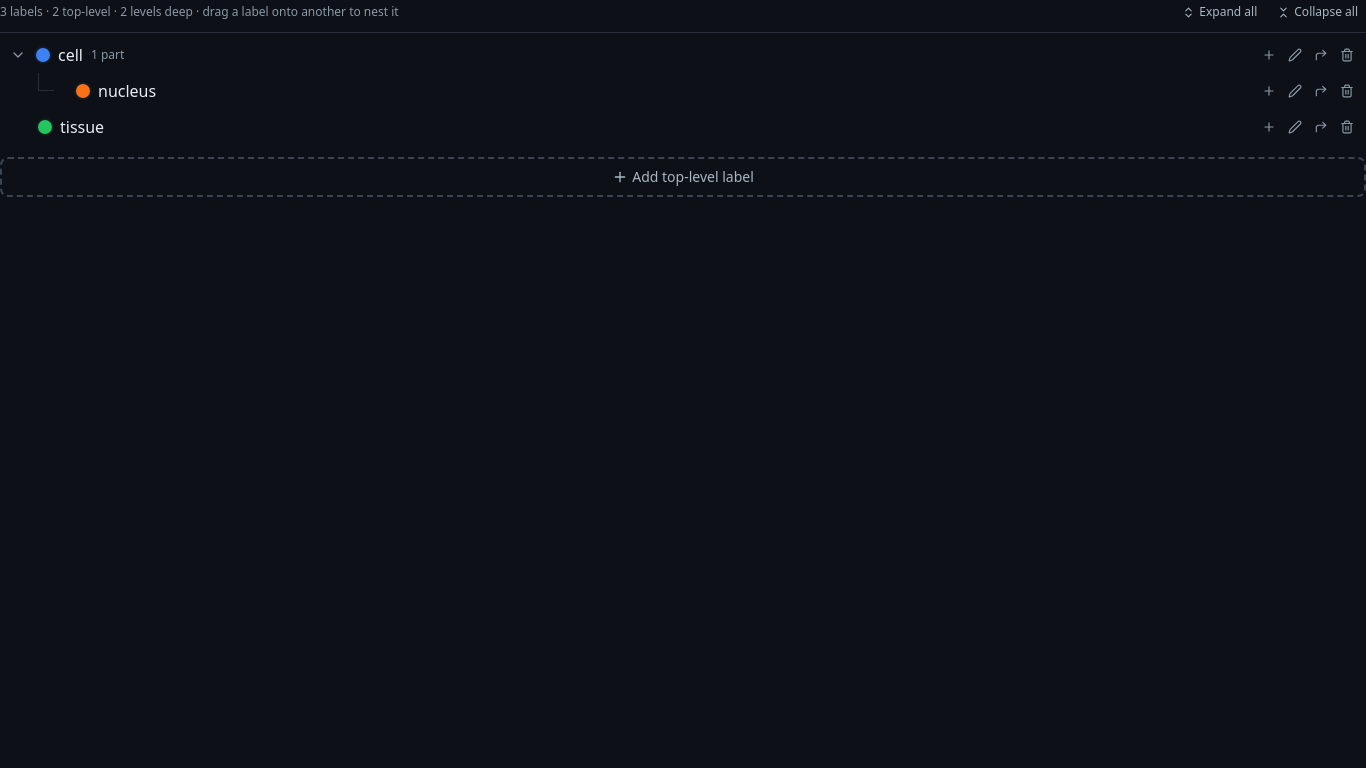
Test case: EditableLabels — moving a label › disables the move when the chosen destination is where the label already is
Step 1. Click the button titled "Move \"nucleus\" — make it a part of something else" → click(1321, 91), box [1310, 80, 1332, 102]
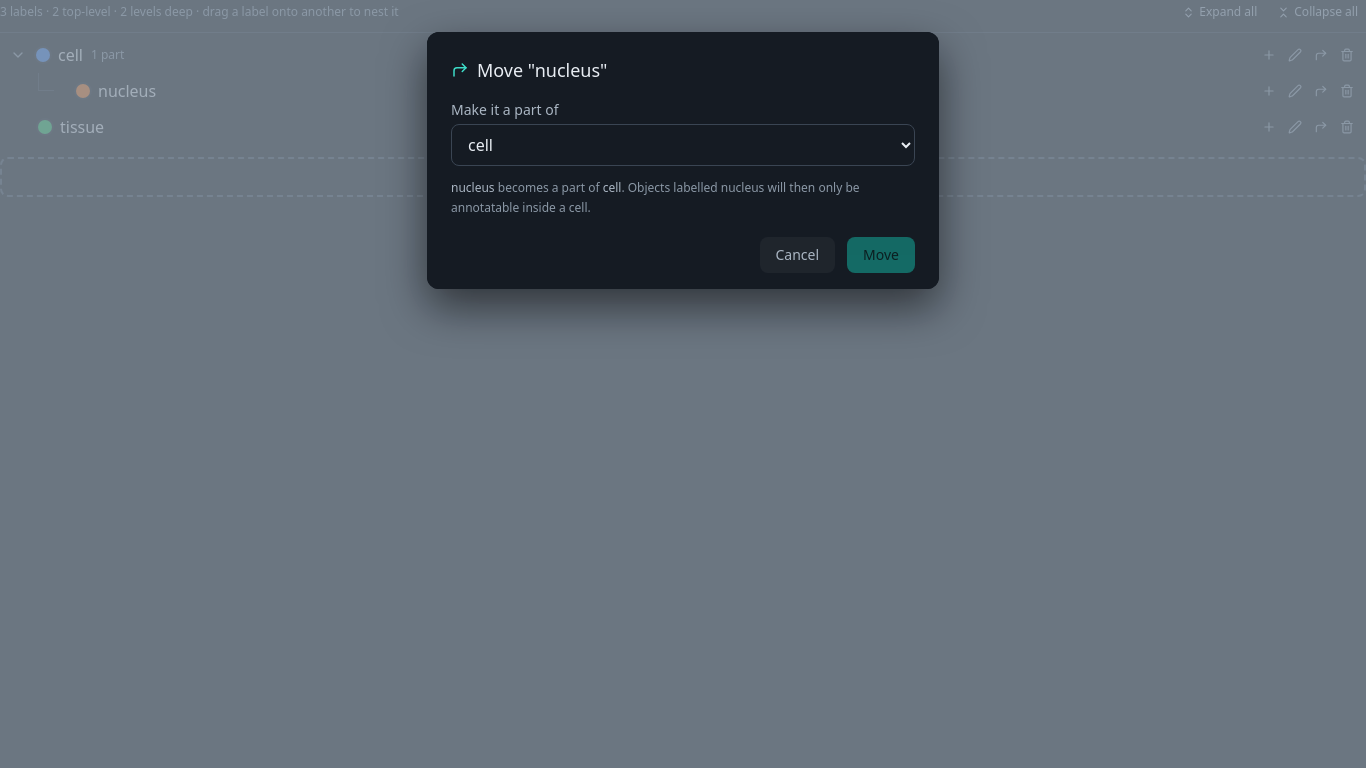
Expected: the button "Move" is disabled, [847, 237, 915, 273]
Step 2. Select "tissue" in the dropdown labelled "Make it a part of" → (683, 145), box [451, 124, 915, 166]
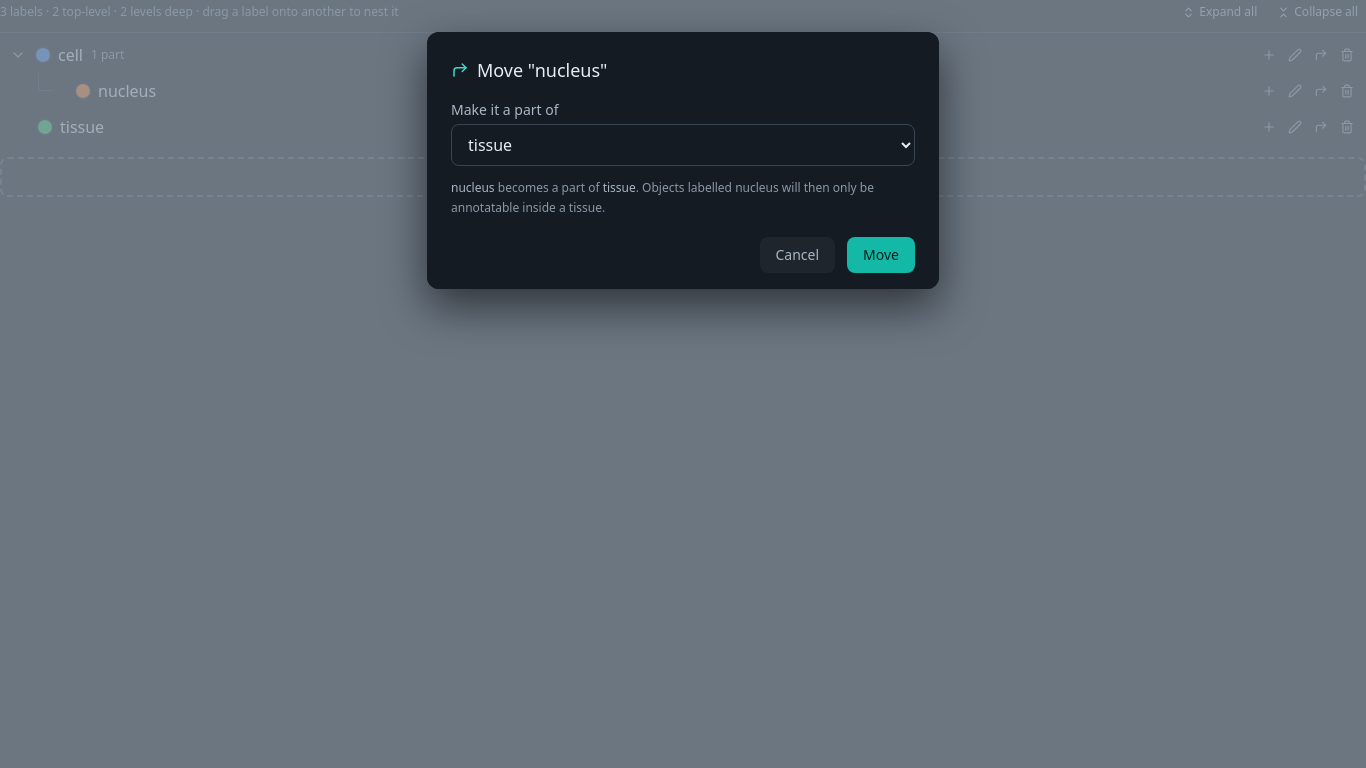
Expected: the button "Move" is enabled, [847, 237, 915, 273]
